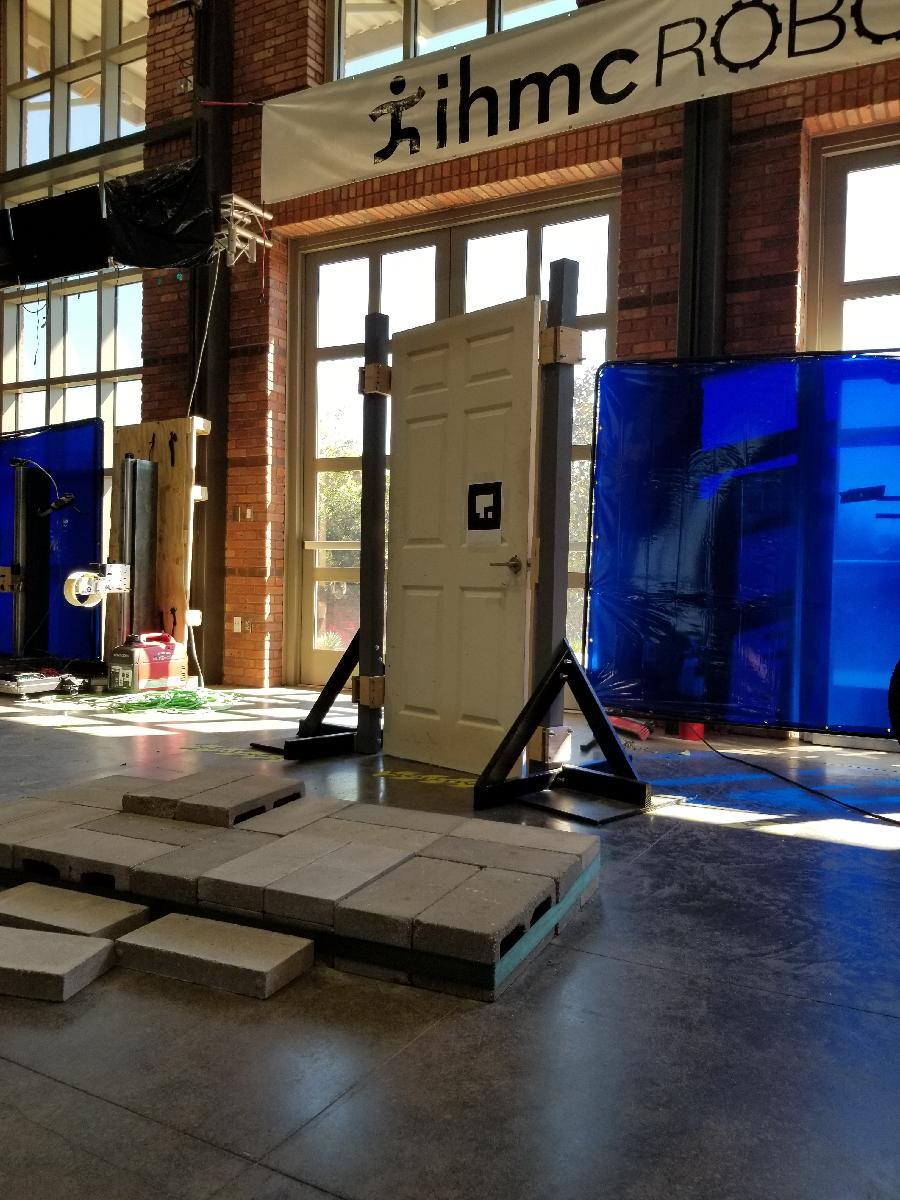door: (377, 291, 542, 792)
doorHandle: (484, 548, 526, 583)
